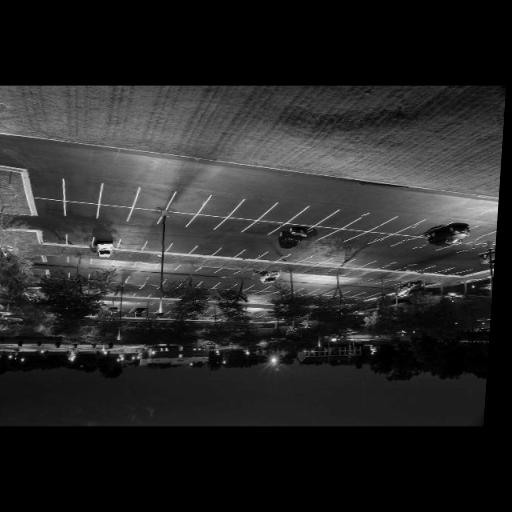busy: (426, 224, 475, 250), (277, 226, 313, 249), (394, 280, 426, 298), (91, 238, 116, 260), (261, 271, 283, 284)
free: (32, 175, 61, 195), (69, 182, 100, 200), (174, 192, 205, 210), (104, 186, 134, 204), (139, 190, 168, 206), (70, 204, 94, 217), (103, 207, 127, 220), (36, 200, 61, 212), (125, 275, 147, 288), (240, 203, 263, 215), (411, 221, 434, 233), (69, 255, 90, 268), (92, 256, 111, 270), (302, 208, 324, 220), (361, 214, 383, 226), (162, 215, 184, 227), (39, 232, 63, 243), (450, 243, 471, 255), (274, 205, 296, 216), (68, 233, 90, 244), (208, 198, 232, 208), (406, 263, 425, 275), (224, 220, 245, 230), (123, 238, 144, 248), (345, 258, 366, 268), (474, 235, 491, 247), (388, 218, 408, 228), (196, 218, 216, 228), (380, 237, 402, 246), (254, 222, 273, 232), (113, 260, 132, 270), (332, 213, 353, 222), (133, 213, 153, 222), (145, 278, 163, 288), (402, 239, 424, 247), (358, 234, 378, 242), (148, 241, 165, 250), (196, 245, 215, 253), (48, 256, 67, 264), (118, 304, 137, 312), (242, 250, 260, 258), (268, 252, 284, 260), (286, 254, 304, 261), (136, 262, 154, 269), (241, 268, 256, 276), (331, 232, 350, 238), (469, 228, 483, 236), (443, 268, 460, 274), (174, 244, 190, 250), (310, 256, 326, 262), (369, 261, 385, 267), (161, 264, 176, 270), (249, 286, 264, 292), (199, 267, 216, 272), (222, 248, 238, 253), (220, 268, 235, 273), (390, 263, 404, 268)
